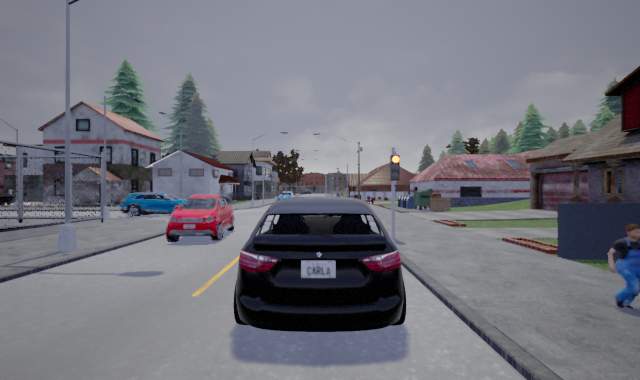pedestrian: (609, 218, 640, 312)
traffic_light: (390, 151, 402, 180)
vehicle: (233, 195, 405, 333), (160, 194, 238, 244), (115, 191, 202, 218)
